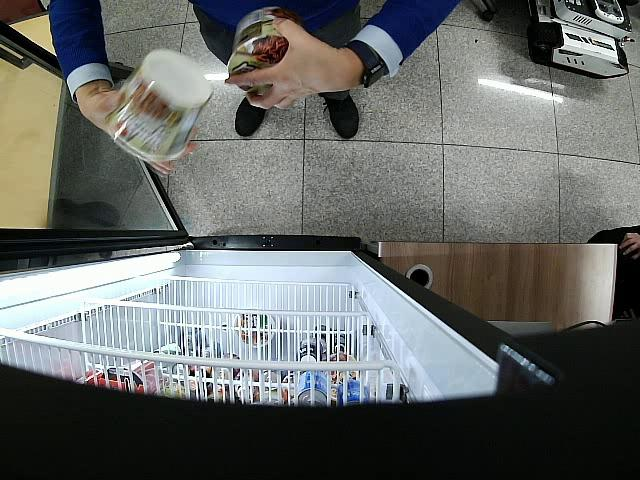00_hand: (225, 17, 349, 110), (76, 89, 198, 177)
03_chapagetti_L: (107, 50, 211, 163), (224, 7, 298, 96)
